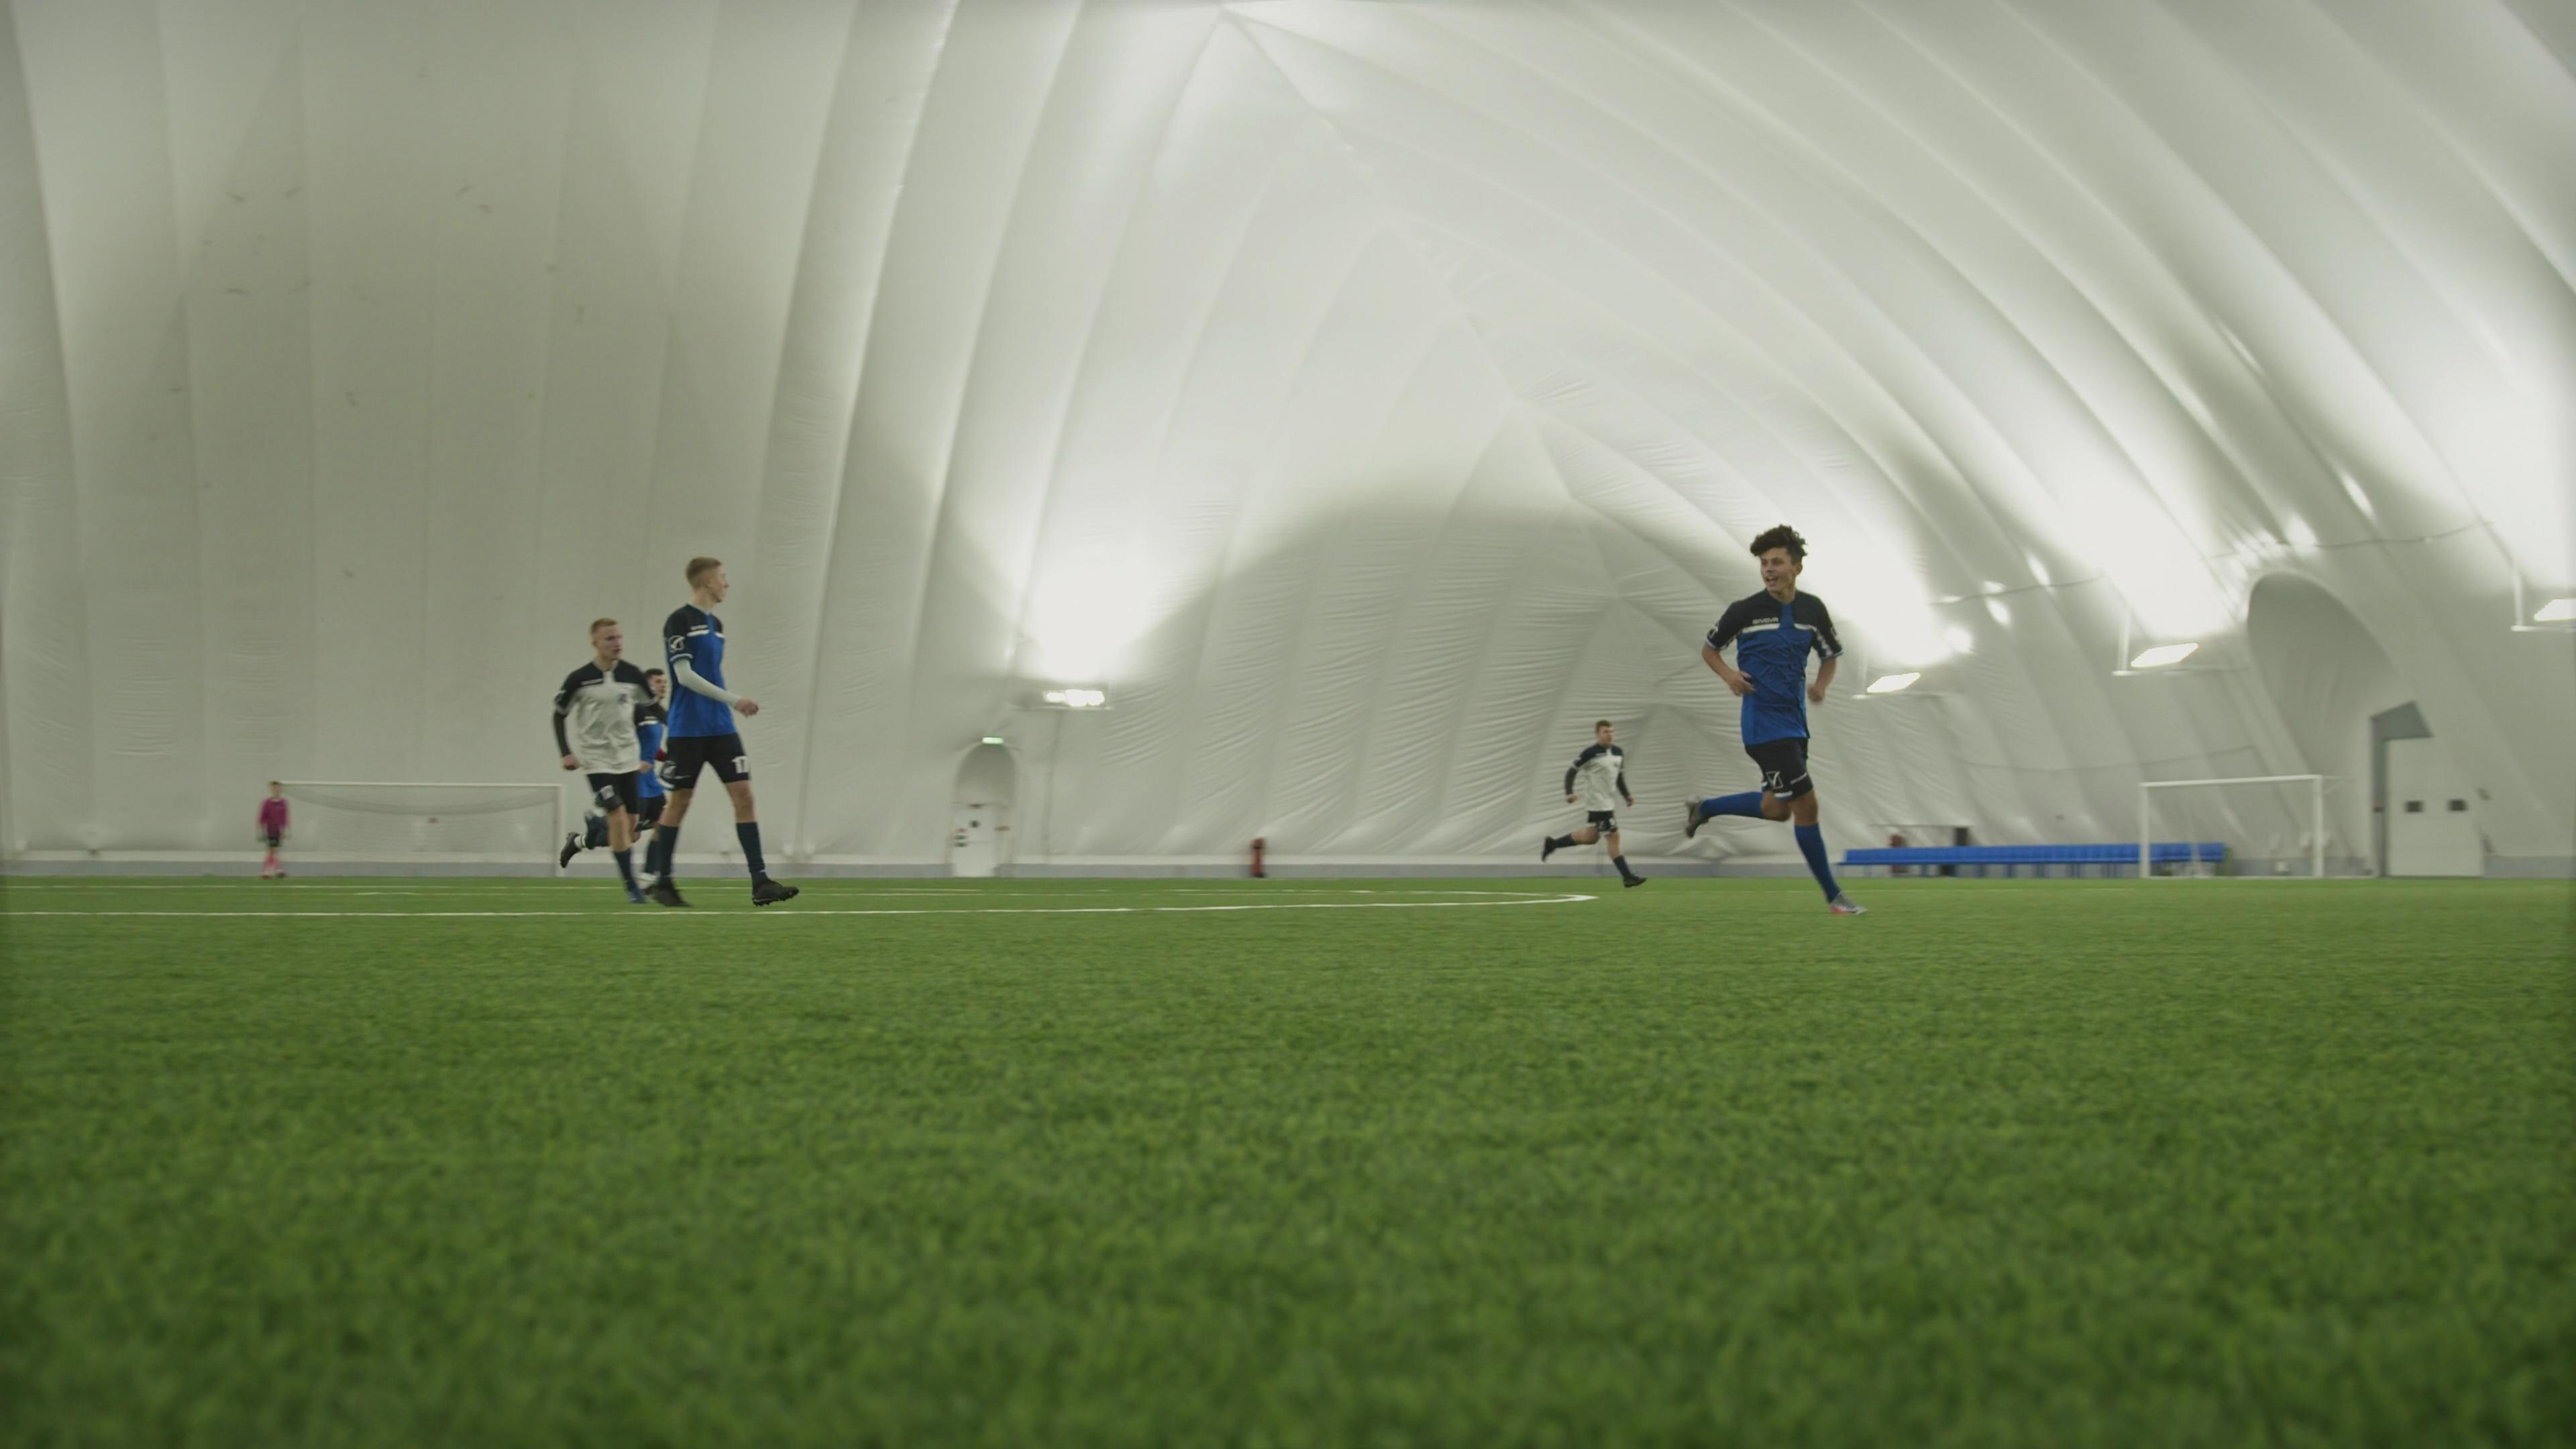team1: (1688, 525, 1858, 922), (630, 554, 798, 911), (635, 660, 671, 888)
team1gk: (255, 777, 292, 883)
team2: (550, 612, 671, 892), (1537, 718, 1645, 892)
